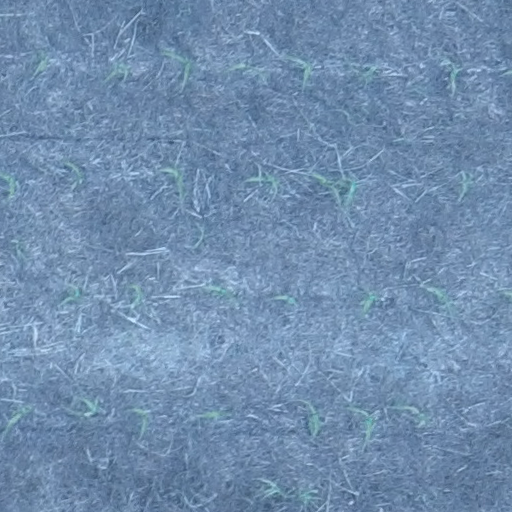planta: (286, 398, 322, 434), (161, 50, 191, 91), (280, 56, 313, 92), (348, 406, 376, 439), (309, 173, 340, 202), (60, 395, 100, 417), (160, 166, 186, 198), (4, 405, 32, 432), (445, 58, 464, 97), (127, 407, 148, 440), (392, 405, 429, 422), (428, 286, 454, 310), (262, 294, 301, 310), (203, 283, 236, 299), (104, 63, 130, 83), (338, 177, 357, 204), (251, 173, 280, 189), (59, 286, 82, 306), (457, 169, 470, 204), (128, 282, 144, 310), (361, 293, 379, 316), (65, 164, 84, 182), (33, 53, 47, 75)
